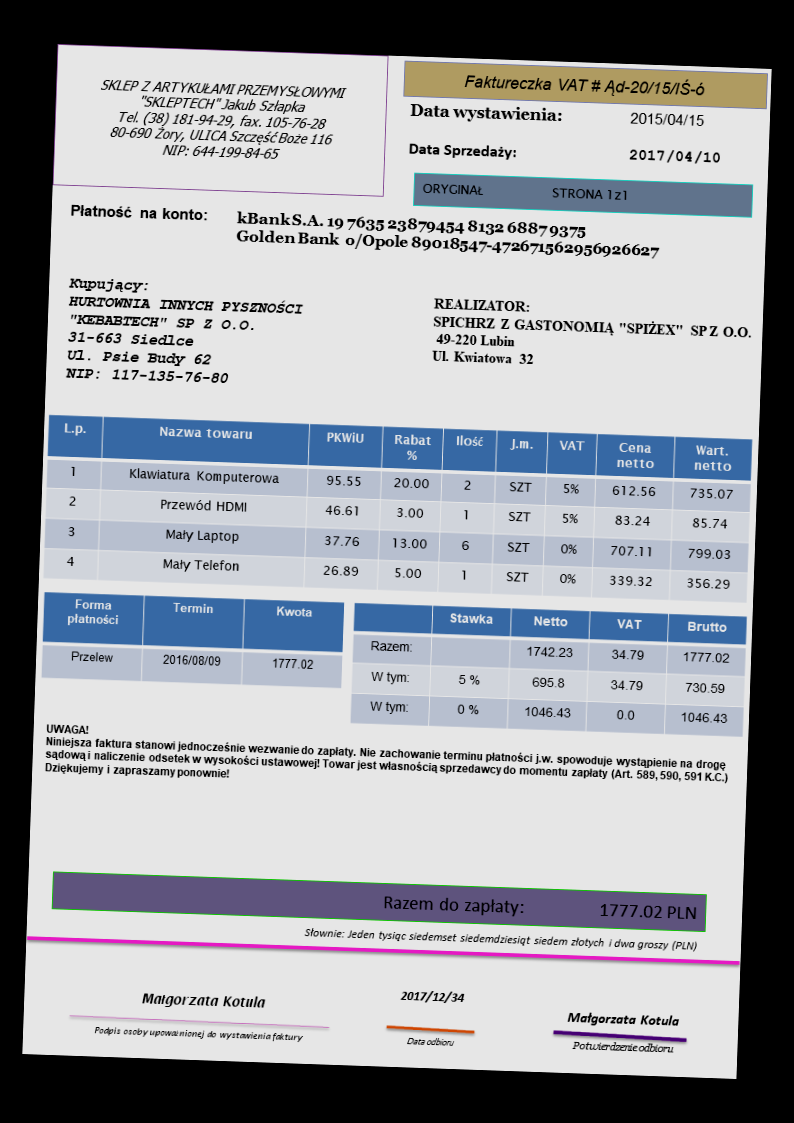Table: (41, 411, 754, 606), (346, 600, 748, 740), (40, 590, 346, 689)
TextBox: (41, 718, 733, 801), (60, 272, 307, 389), (427, 293, 756, 376), (94, 70, 350, 168), (231, 206, 664, 261), (301, 923, 704, 954), (378, 887, 699, 924), (459, 68, 711, 99), (420, 177, 631, 206), (88, 1022, 307, 1045), (407, 97, 567, 126), (64, 200, 212, 227), (138, 984, 270, 1013), (403, 137, 523, 164), (561, 1006, 685, 1030), (625, 142, 725, 168), (625, 104, 706, 132), (566, 1038, 677, 1057), (397, 986, 467, 1007), (402, 1033, 458, 1052)
